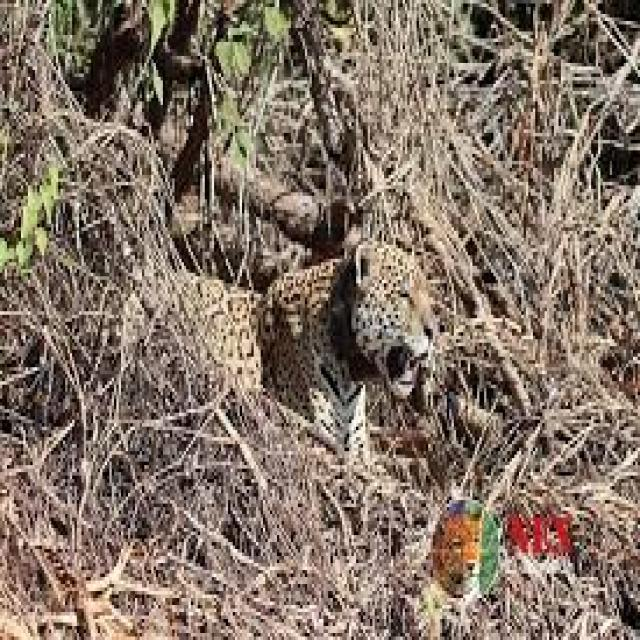Jaguar: (112, 241, 428, 455)
